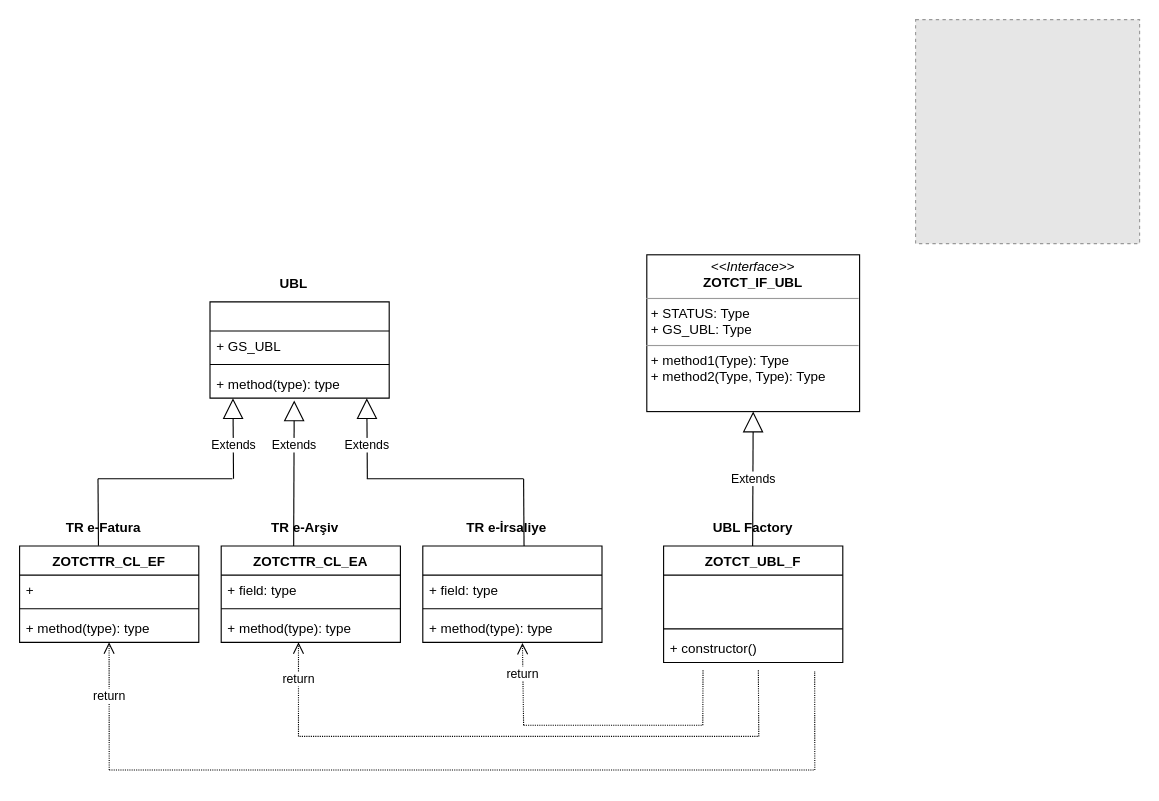
The diagram is 1159 pixels wide and 801 high, and some of its shapes have lost their labels. Grey dashed boxes stand in for pictures. The box of each missing label's shape, as (x1, y1, x2, y2) in pixels:
ZOTCT_CL_UBL: (209, 301, 389, 398)
ZOTCTTR_CL_EI: (422, 545, 602, 642)
